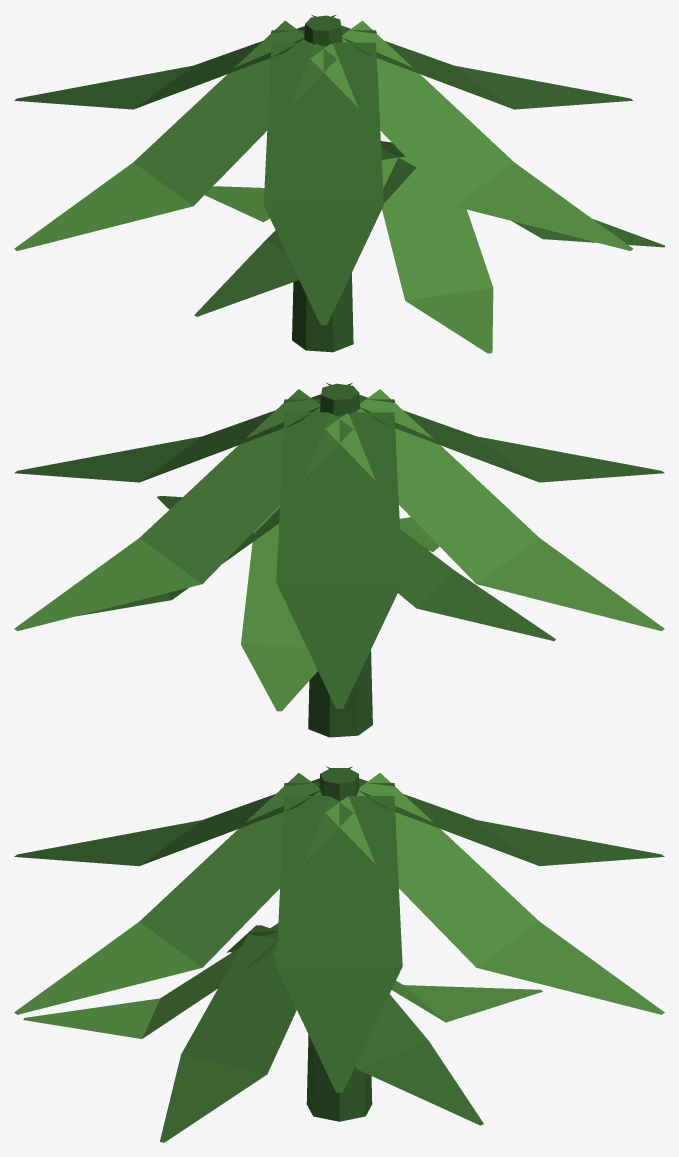
File: env_puno_saging.obj
3 views of the same model, one above another, from view 1: azimuth 30°, elevation 25°; view 2: azimuth 150°, elevation 25°; view 3: azimuth 270°, elevation 25° (orthographic). The views are drawn at different scales.
Parts seen in each view (by area): view 1: PunoSaging; view 2: PunoSaging; view 3: PunoSaging.
Boxes of the visible parts, bbox=[...] form: PunoSaging: bbox=[14, 14, 664, 353]; PunoSaging: bbox=[14, 383, 664, 737]; PunoSaging: bbox=[14, 766, 664, 1142].
Bounding box in the file's own units: 4.9 × 2.4 × 4.27.
